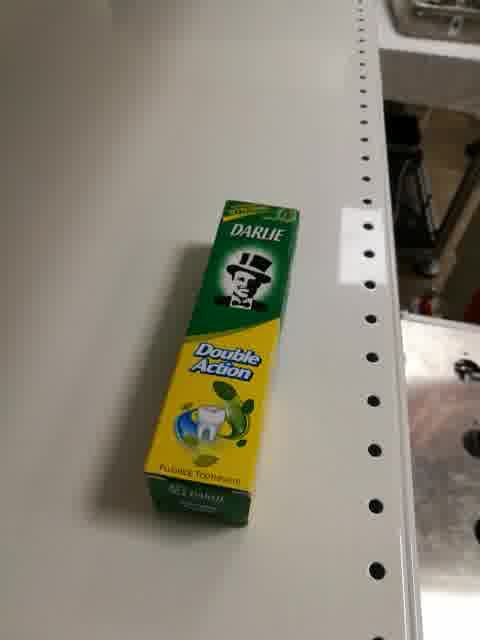toothpaste: (143, 198, 300, 532)
